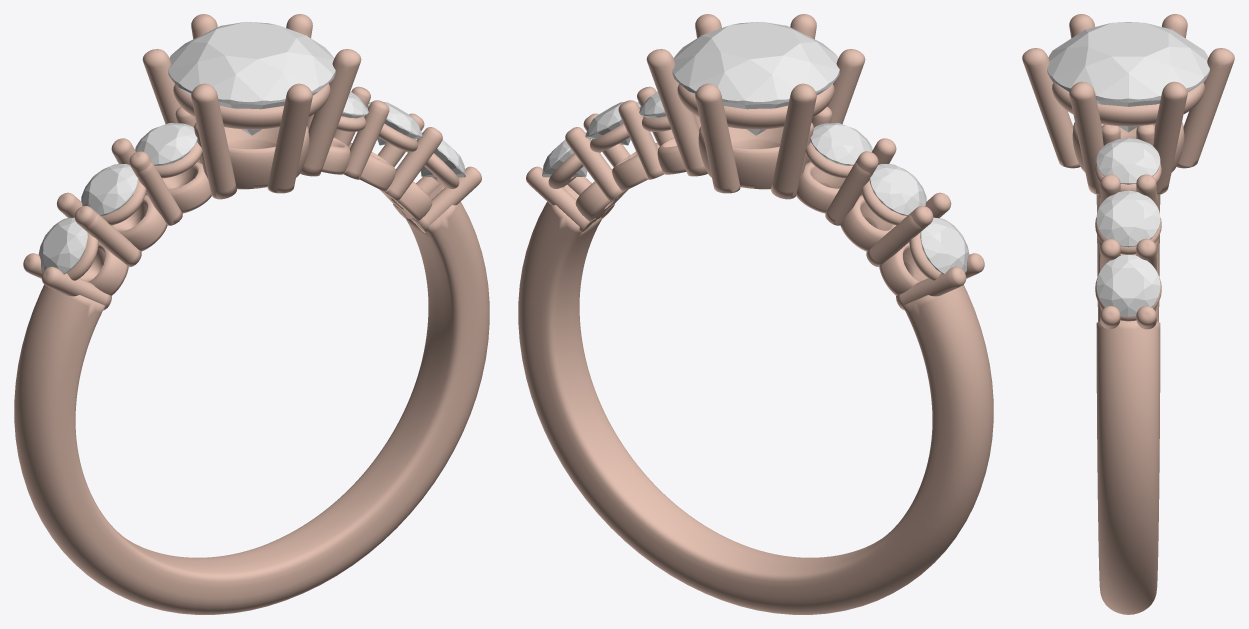
Rendered from diamond-round-rosegold-6prong-straightband-3stone.glb.
3 renders of one model, left to right at view 1: azimuth 30°, elevation 25°; view 2: azimuth 150°, elevation 25°; view 3: azimuth 270°, elevation 25°, orthographic. The views are drawn at different scales.
Visible parts, largest first — view 1: metal, stone, side, side.001, side.002, side.004, side.005; view 2: metal, stone, side, side.001, side.002, side.004, side.005; view 3: metal, stone, side.005, side.004, side.003.
Boxes of the visible parts, x1,y1,x2,y2 form: metal: (14, 14, 489, 614); stone: (168, 21, 335, 135); side: (81, 164, 138, 215); side.001: (38, 217, 87, 274); side.002: (135, 123, 197, 165); side.004: (367, 102, 422, 145); side.005: (416, 132, 465, 177); metal: (518, 14, 993, 614); stone: (672, 21, 839, 135); side: (869, 164, 926, 215); side.001: (920, 217, 969, 274); side.002: (810, 123, 872, 165); side.004: (585, 102, 640, 145); side.005: (542, 132, 591, 177); metal: (1022, 14, 1234, 614); stone: (1047, 22, 1209, 132); side.005: (1096, 255, 1160, 316); side.004: (1096, 190, 1160, 247); side.003: (1096, 137, 1160, 184).
Bounding box in the file's own units: 20.49 × 23.81 × 8.33.
